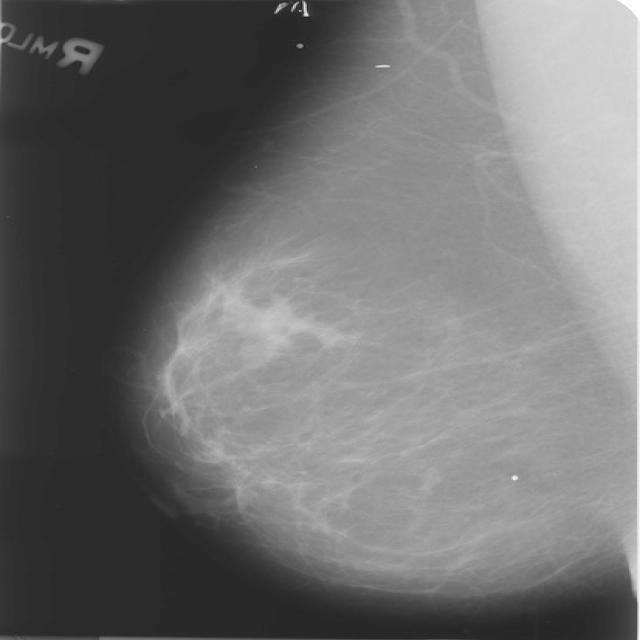tumour: (231, 300, 330, 346)
